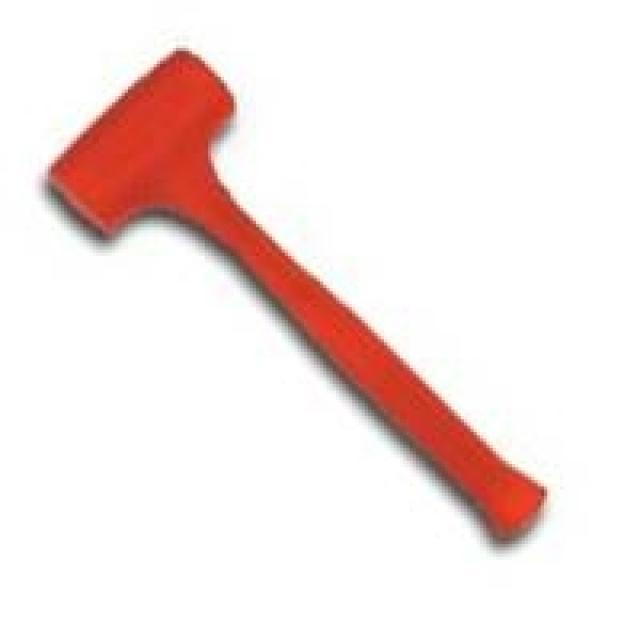hammer: (33, 36, 556, 556)
